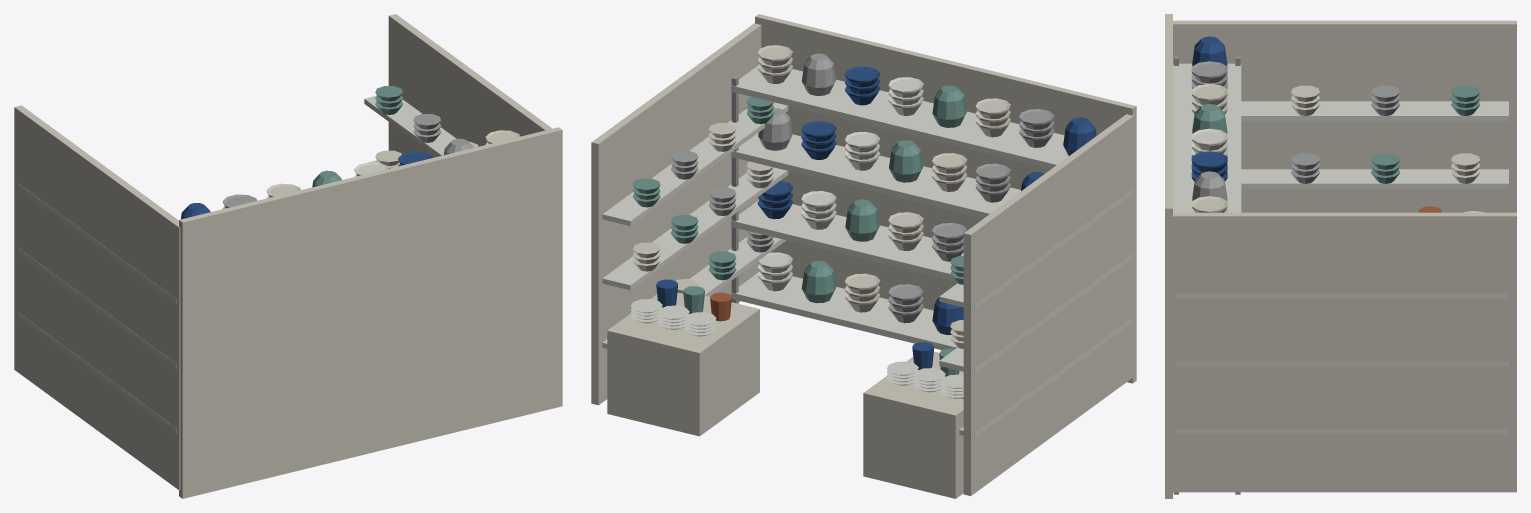
The model's file is kitchen.glb.
The picture shows the model from 3 angles, left to right: view 1: azimuth 30°, elevation 25°; view 2: azimuth 150°, elevation 25°; view 3: azimuth 270°, elevation 25°; orthographic projection. The views are drawn at different scales.
Parts seen in each view (by area): view 1: kitchen; view 2: kitchen; view 3: kitchen.
Boxes of the visible parts, left/top/right/bottom form: kitchen: left=14, top=14, right=562, bottom=498; kitchen: left=591, top=14, right=1136, bottom=498; kitchen: left=1165, top=14, right=1516, bottom=498.
Bounding box in the file's own units: 3.53 × 2.44 × 2.68.
